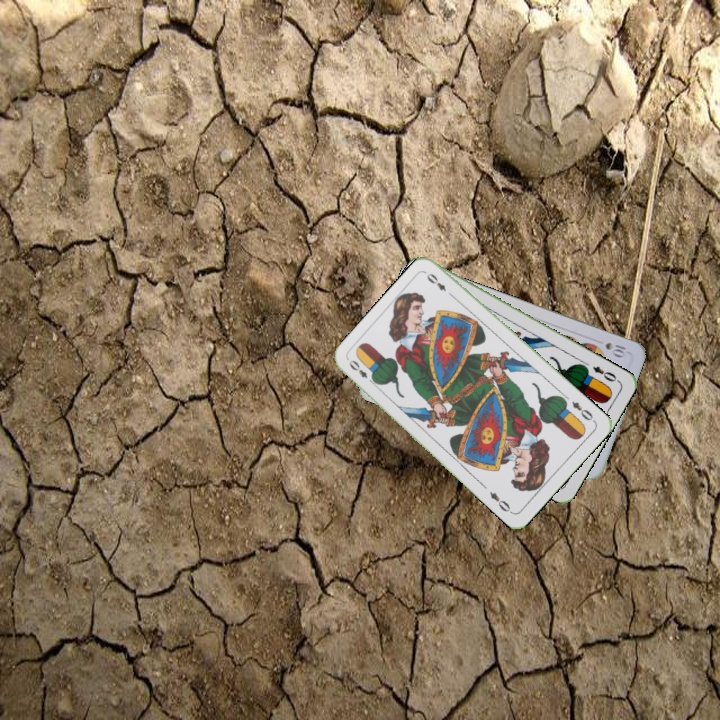EO: (345, 356, 378, 387), (568, 397, 598, 425), (588, 362, 619, 385)
S10: (601, 338, 628, 359)
